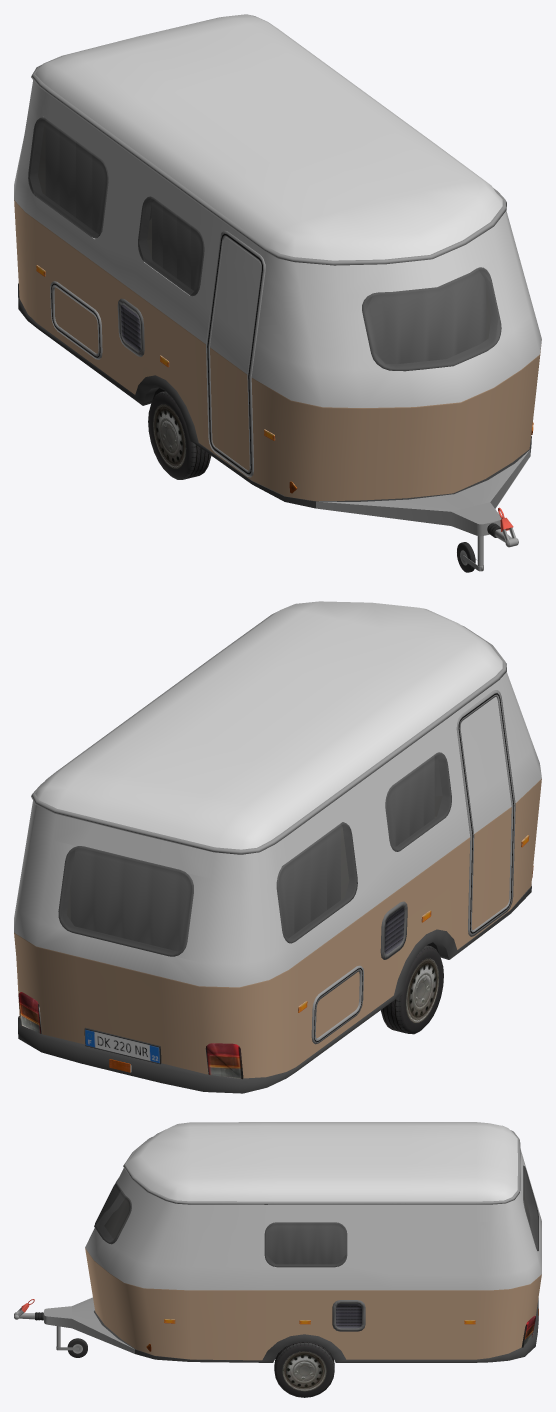
Rendered from sweethome3d-scopia-caravan.glb.
The picture shows the model from 3 angles, top to bottom: view 1: azimuth 30°, elevation 25°; view 2: azimuth 150°, elevation 25°; view 3: azimuth 270°, elevation 25°; orthographic projection. The views are drawn at different scales.
Parts seen in each view (by area): view 1: Caravan_Cube.001, FrontWindow_Plane.006, Fender_Cube.002, SideWindow_Plane.001, LittleWindows_Plane, wheels_Cylinder, Door_Plane.002, Vent_Plane.004, LittleDoor_Plane.003; view 2: Caravan_Cube.001, BackWindow_Plane.005, Fender_Cube.002, SideWindow_Plane.001, LittleWindows_Plane, wheels_Cylinder, Door_Plane.002, RearLights_Cube.006, LicensePlates_mesh.010, Vent_Plane.004, LittleDoor_Plane.003; view 3: Caravan_Cube.001, Fender_Cube.002, LittleWindows_Plane, wheels_Cylinder, FrontWindow_Plane.006, Vent_Plane.004, BackWindow_Plane.005.
Boxes of the visible parts, x1,y1,x2,y2 form: Caravan_Cube.001: [14, 14, 541, 501]; FrontWindow_Plane.006: [362, 267, 501, 371]; Fender_Cube.002: [18, 283, 531, 571]; SideWindow_Plane.001: [28, 117, 108, 238]; LittleWindows_Plane: [138, 196, 204, 296]; wheels_Cylinder: [148, 391, 211, 479]; Door_Plane.002: [206, 230, 265, 477]; Vent_Plane.004: [117, 298, 144, 356]; LittleDoor_Plane.003: [50, 281, 102, 359]; Caravan_Cube.001: [14, 601, 541, 1078]; BackWindow_Plane.005: [58, 846, 193, 956]; Fender_Cube.002: [18, 884, 531, 1093]; SideWindow_Plane.001: [276, 822, 357, 943]; LittleWindows_Plane: [385, 752, 451, 851]; wheels_Cylinder: [380, 945, 443, 1034]; Door_Plane.002: [456, 690, 515, 936]; RearLights_Cube.006: [18, 992, 243, 1079]; LicensePlates_mesh.010: [84, 1027, 161, 1064]; Vent_Plane.004: [380, 901, 407, 959]; LittleDoor_Plane.003: [311, 965, 363, 1044]; Caravan_Cube.001: [85, 1122, 541, 1360]; Fender_Cube.002: [43, 1297, 538, 1362]; LittleWindows_Plane: [264, 1222, 347, 1267]; wheels_Cylinder: [274, 1341, 334, 1397]; FrontWindow_Plane.006: [94, 1178, 131, 1244]; Vent_Plane.004: [332, 1300, 365, 1331]; BackWindow_Plane.005: [523, 1165, 538, 1250].
Size of the model in its own units: 212 by 236 by 547.
26 materials, 8 textured.
